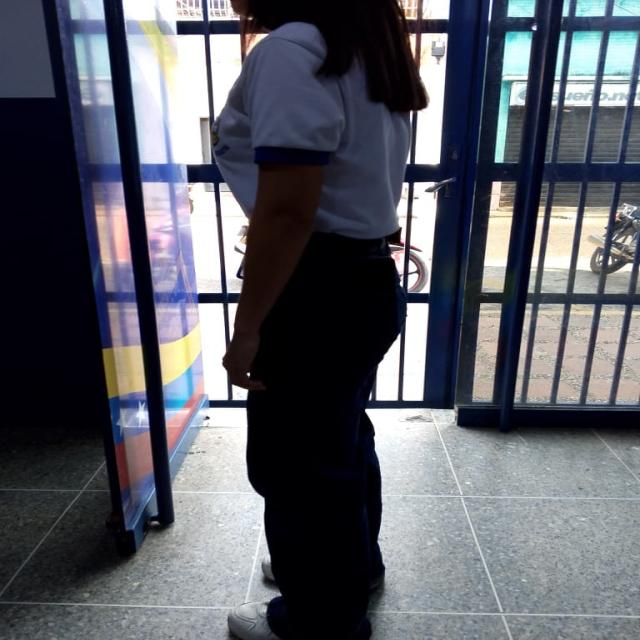pantalon_oscuro: (239, 248, 408, 640)
uniforme_superior: (208, 18, 416, 247)
